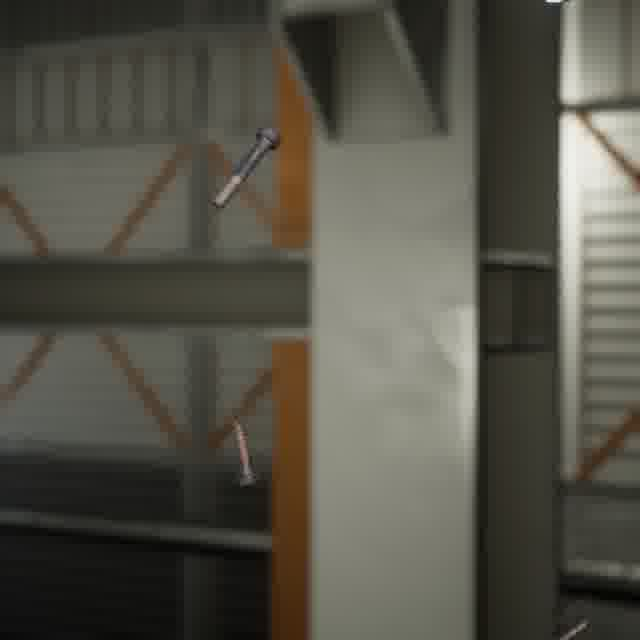bolt: (207, 122, 286, 214), (227, 415, 266, 489), (550, 614, 595, 640)
